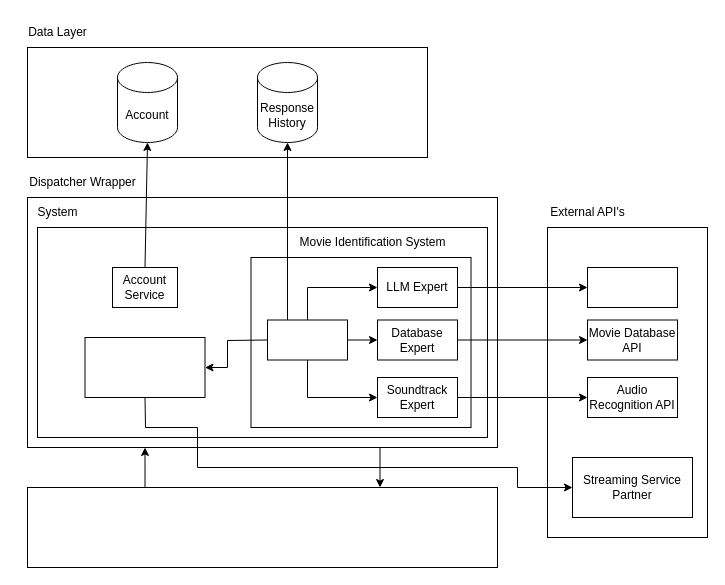
Image size: 725x585. Some labels were removed from this diagram. Here are the shapes that lost their labels. From the top down, the centre of each, then its label:
At point 632,287: "LLM API".
At point 307,339: "Forum".
At point 144,367: "Movie Information Service".
At point 262,527: "User Interface".
